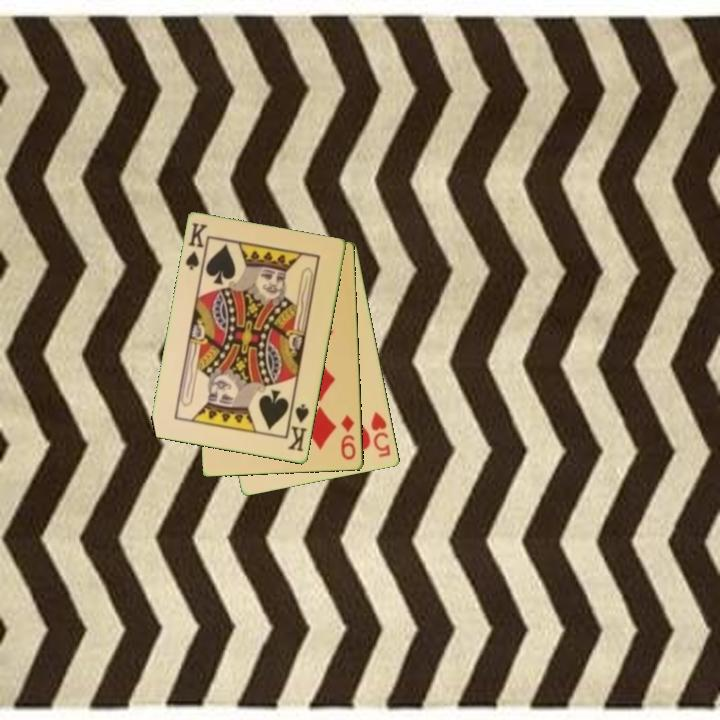5h: (368, 408, 394, 460)
9d: (338, 412, 359, 463)
Ks: (182, 219, 211, 276), (284, 399, 312, 455)
